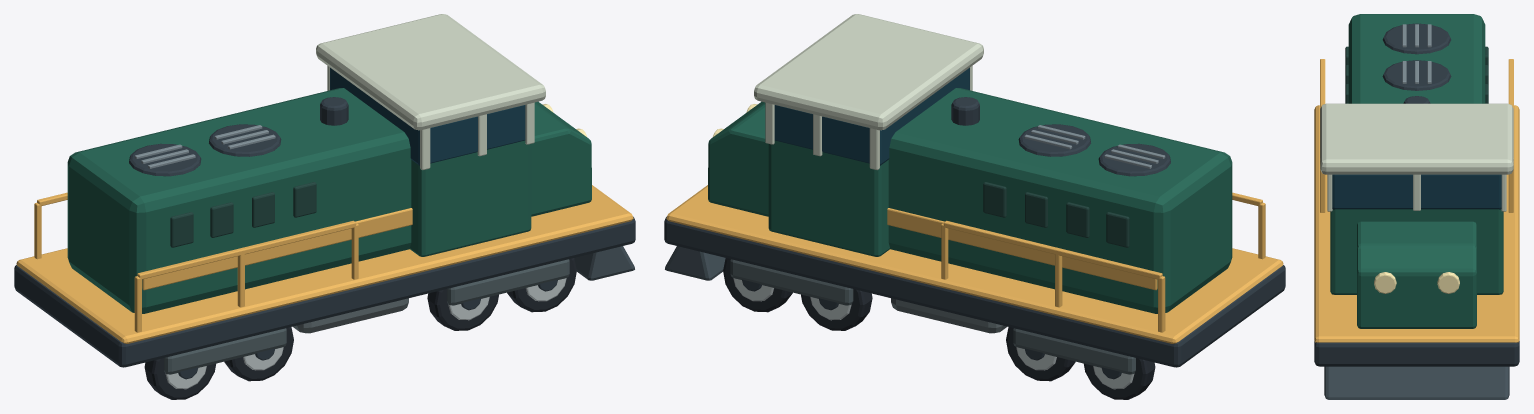
File: freight-train.glb
The picture shows the model from 3 angles, left to right: view 1: azimuth 30°, elevation 25°; view 2: azimuth 150°, elevation 25°; view 3: azimuth 270°, elevation 25°; orthographic projection. The views are drawn at different scales.
Parts seen in each view (by area): view 1: freight-train; view 2: freight-train; view 3: freight-train.
Part boxes in pixels (<box>): freight-train: <box>14,14,635,399</box>; freight-train: <box>664,14,1285,399</box>; freight-train: <box>1314,14,1519,399</box>.
Bounding box in the file's own units: 3.39 × 1.46 × 1.23.
